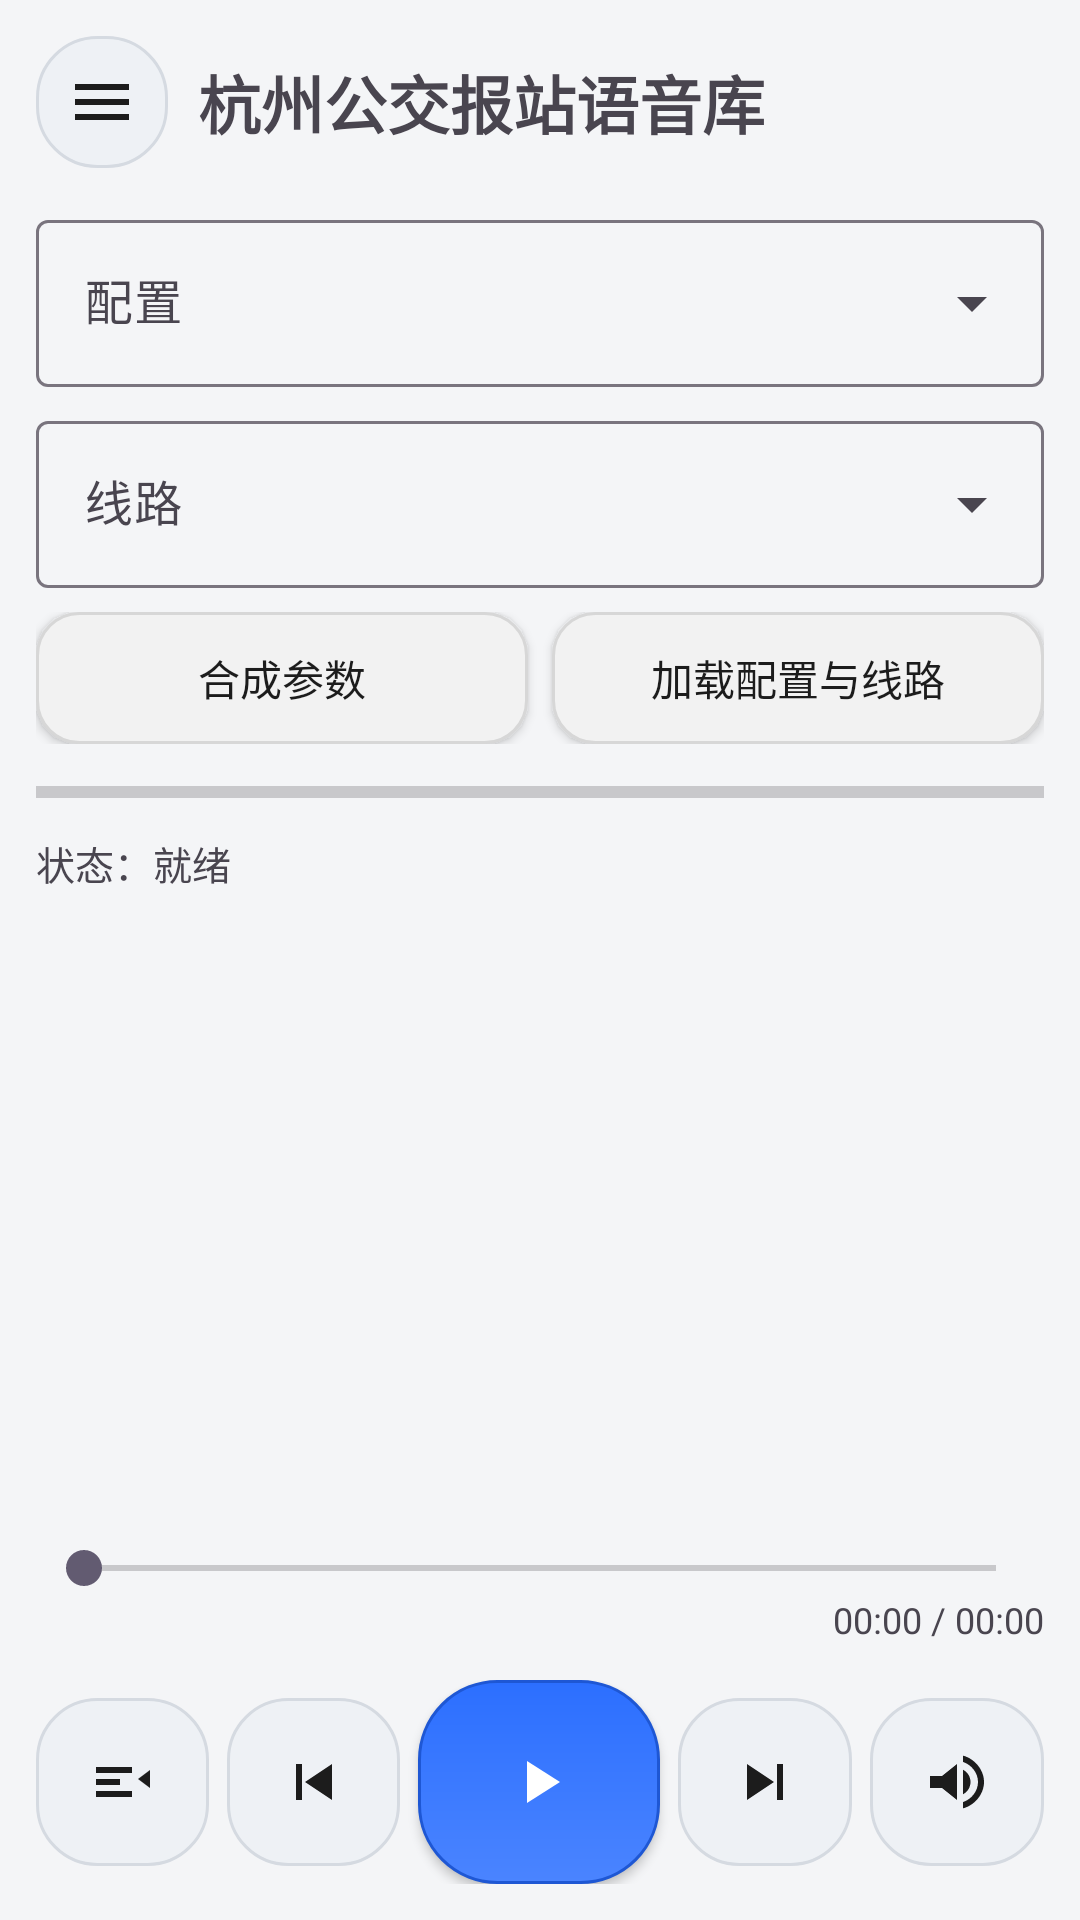

Named icons in this screenshot (1080 × 1920) and their bounding boxes, (x1, y1, x2, y2):
上一首: (227, 1698, 400, 1866)
下一首: (678, 1698, 852, 1866)
打开侧边栏: (36, 36, 168, 168)
播放或暂停: (418, 1680, 660, 1884)
播放模式: (36, 1698, 209, 1866)
音量: (870, 1698, 1044, 1866)
